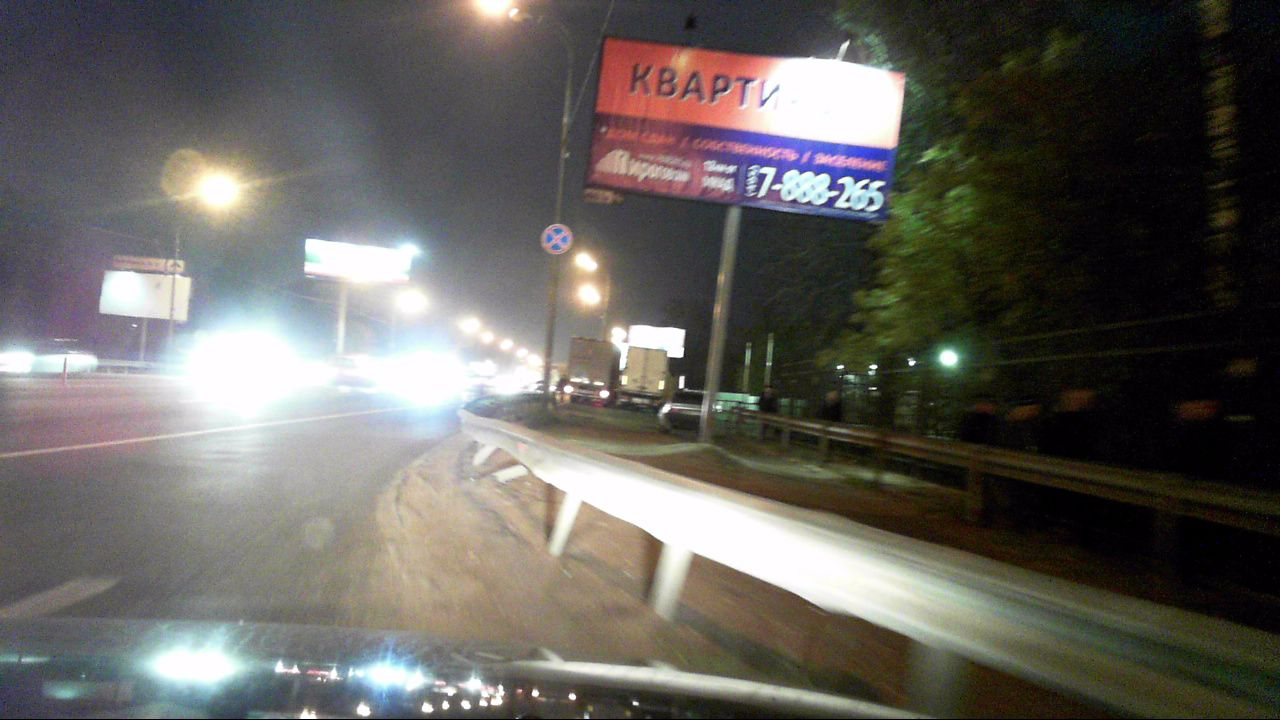No Parking: (541, 223, 572, 255)
